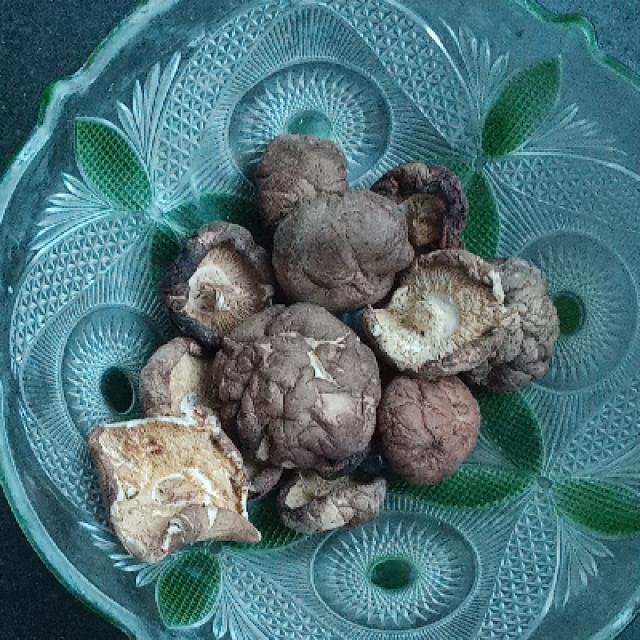Lentinus edodes: (221, 296, 380, 475), (364, 252, 559, 390), (92, 413, 259, 559), (277, 191, 410, 310), (166, 227, 270, 339), (380, 380, 482, 485), (248, 133, 353, 222)
